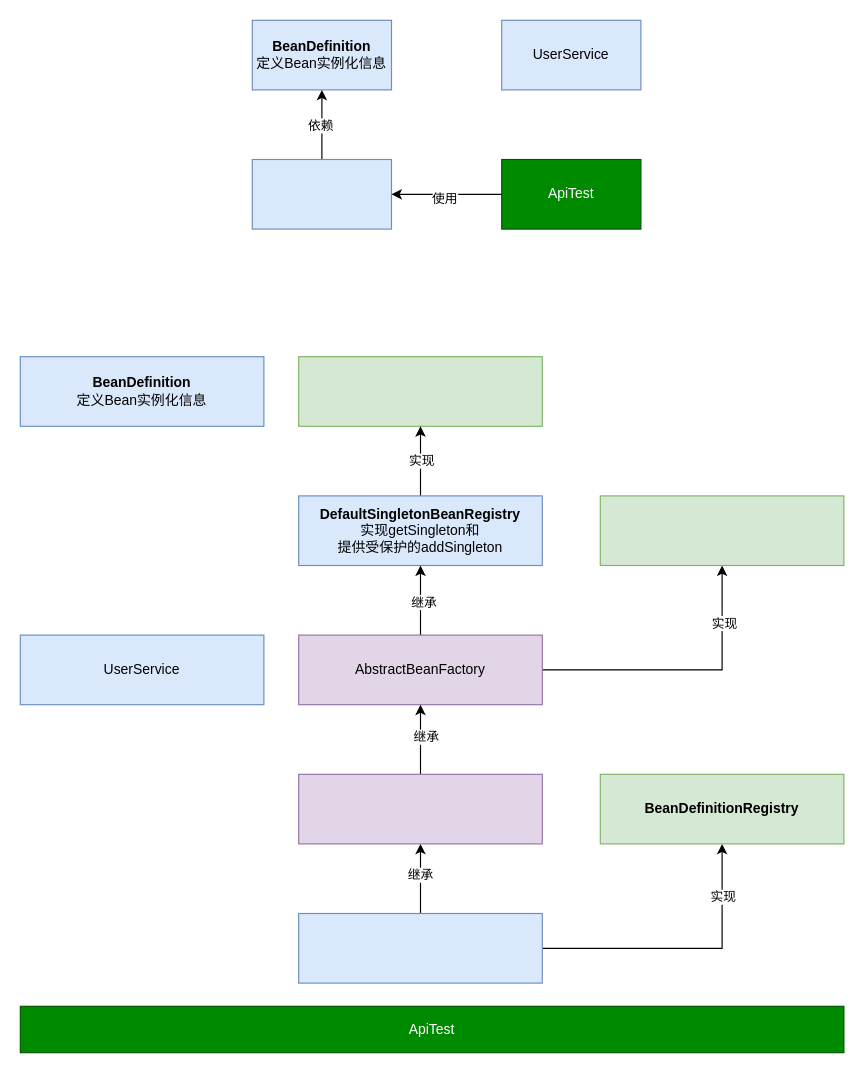
Image size: 864x1073. Some labels were removed from this diagram. Each missing label, with the centre of its shape:
"AbstractAutowireCapableBeanFactory" belongs at (420,808).
"BeanFactory 存放Bean定义到Map中以及获取" belongs at (321,193).
"BeanFactory 获取Bean" belongs at (721,530).
"DefaultListableBeanFactory" belongs at (420,947).
"SingletonBeanRegistry 提供单例Bean" belongs at (420,391).
